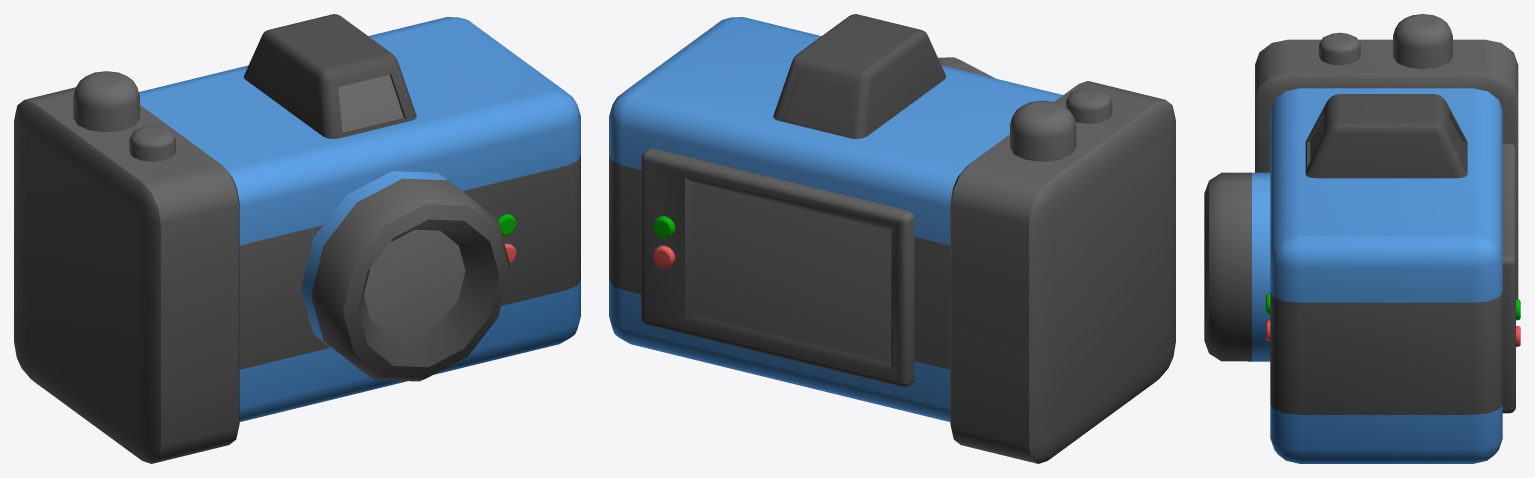
The model's file is Camera_2.fbx.
The picture shows the model from 3 angles, left to right: view 1: azimuth 30°, elevation 25°; view 2: azimuth 150°, elevation 25°; view 3: azimuth 270°, elevation 25°; orthographic projection. The views are drawn at different scales.
Parts seen in each view (by area): view 1: Camera_2; view 2: Camera_2; view 3: Camera_2.
Part boxes in pixels (<box>): Camera_2: <box>14,14,580,463</box>; Camera_2: <box>609,14,1175,463</box>; Camera_2: <box>1204,14,1520,463</box>.
Bounding box in the file's own units: 0.162 × 0.111 × 0.1102.
